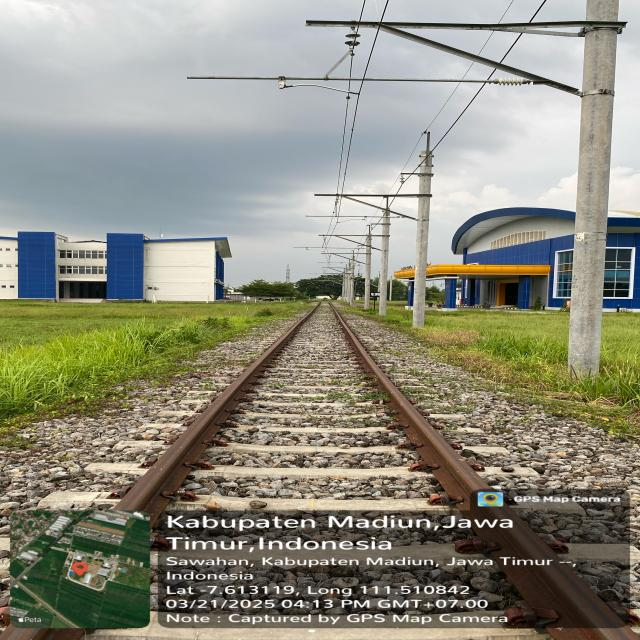rail-detection: (331, 306, 634, 640), (114, 310, 314, 527)
